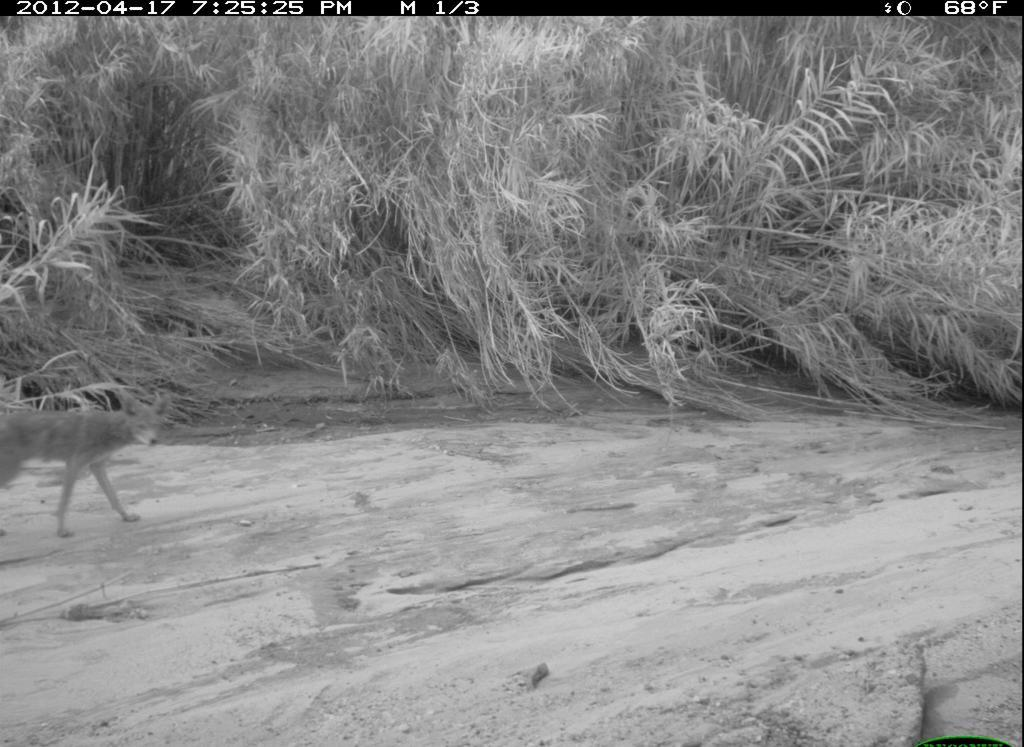coyote: (1, 382, 186, 539)
